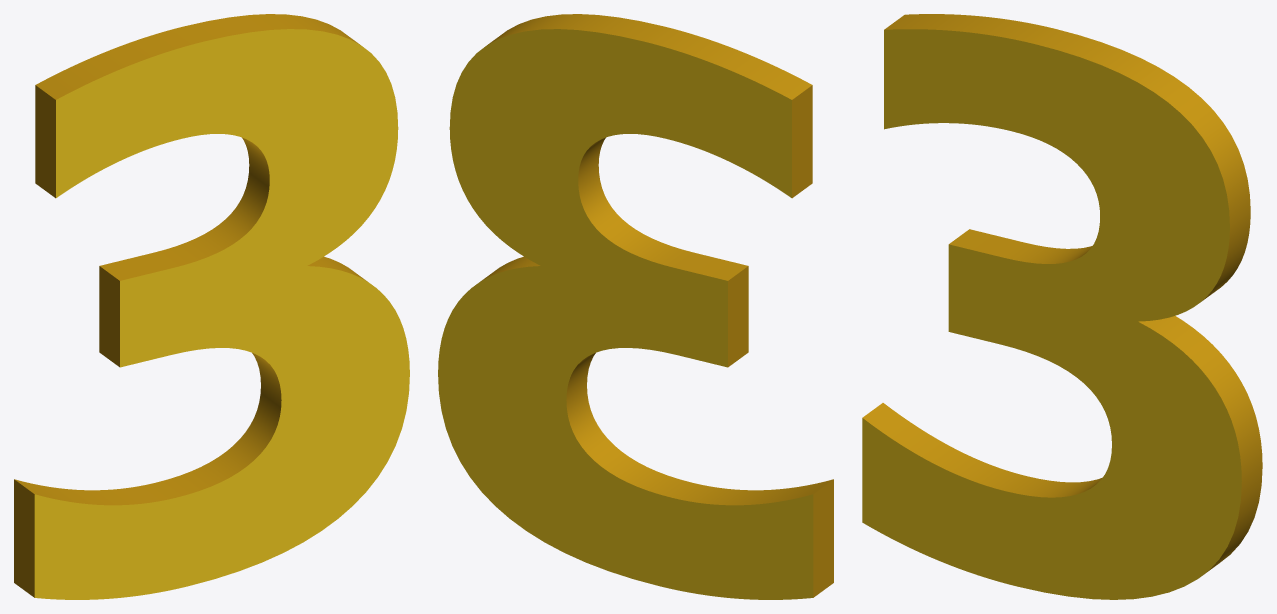
Rendered from Digito3.obj.
3 renders of one model, left to right at view 1: azimuth 30°, elevation 25°; view 2: azimuth 150°, elevation 25°; view 3: azimuth 330°, elevation 25°, orthographic.
Visible parts, largest first — view 1: Digito3; view 2: Digito3; view 3: Digito3.
Part boxes in pixels (x1,y1,x2,y2): Digito3: (14,14,409,599); Digito3: (438,14,833,599); Digito3: (862,14,1262,599).
Size of the model in its own units: 0.422 by 0.581 by 0.04.
1 material, 1 textured.
